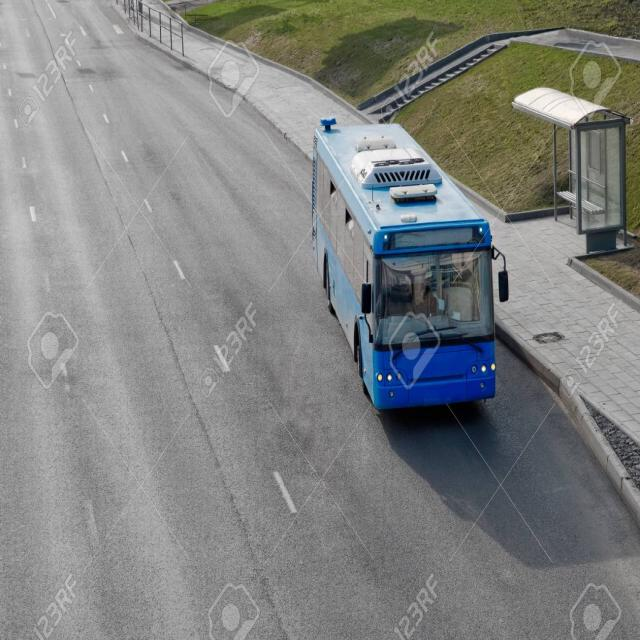BUS: (262, 99, 514, 452)
